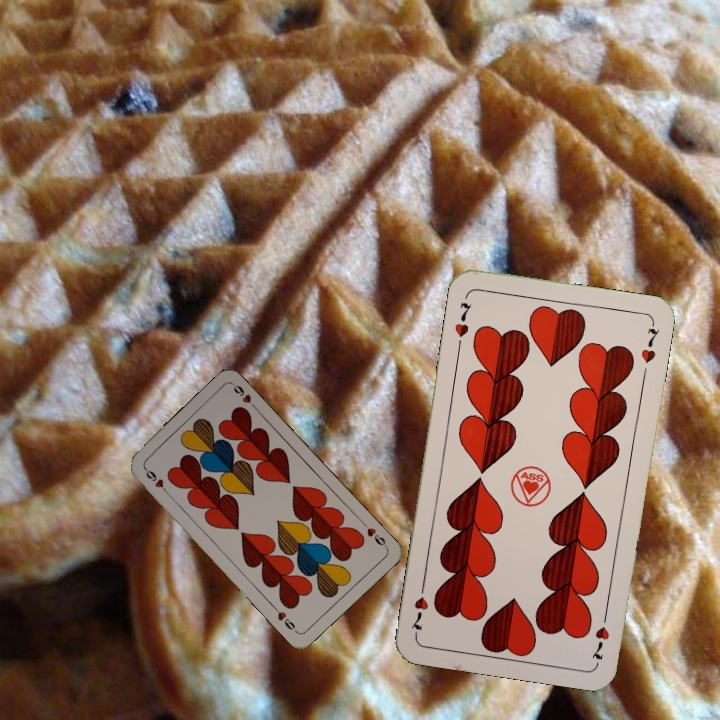H7: (587, 606, 612, 665), (450, 298, 474, 351)
H9: (140, 463, 171, 497), (358, 518, 389, 551)
